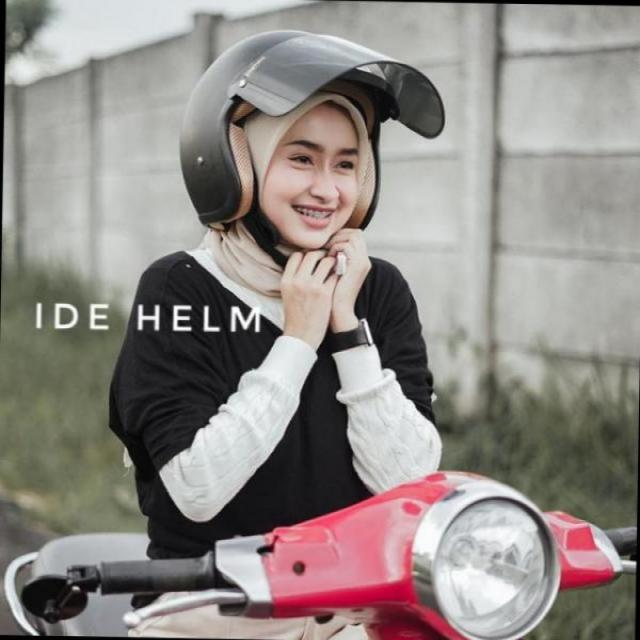Helmet: (166, 34, 454, 279)
